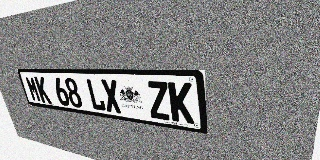6: (52, 77, 71, 106)
8: (63, 78, 83, 108)
K: (168, 82, 194, 124), (34, 76, 52, 104)
L: (85, 79, 107, 111)
M: (25, 76, 42, 102)
X: (100, 79, 122, 114)
Z: (146, 81, 171, 121)
